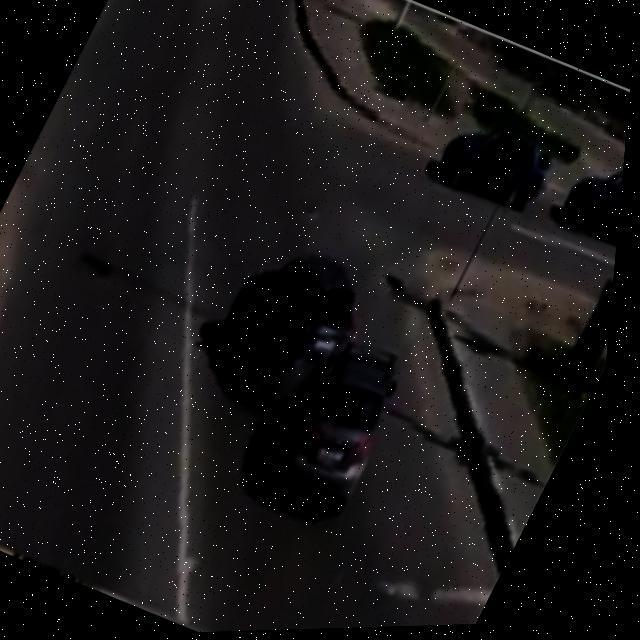Car Accident Detector - v4 Generation1 Exported: (152, 218, 471, 536)
